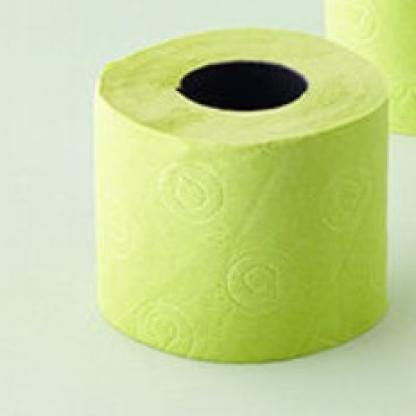tissue: (63, 12, 411, 372)
